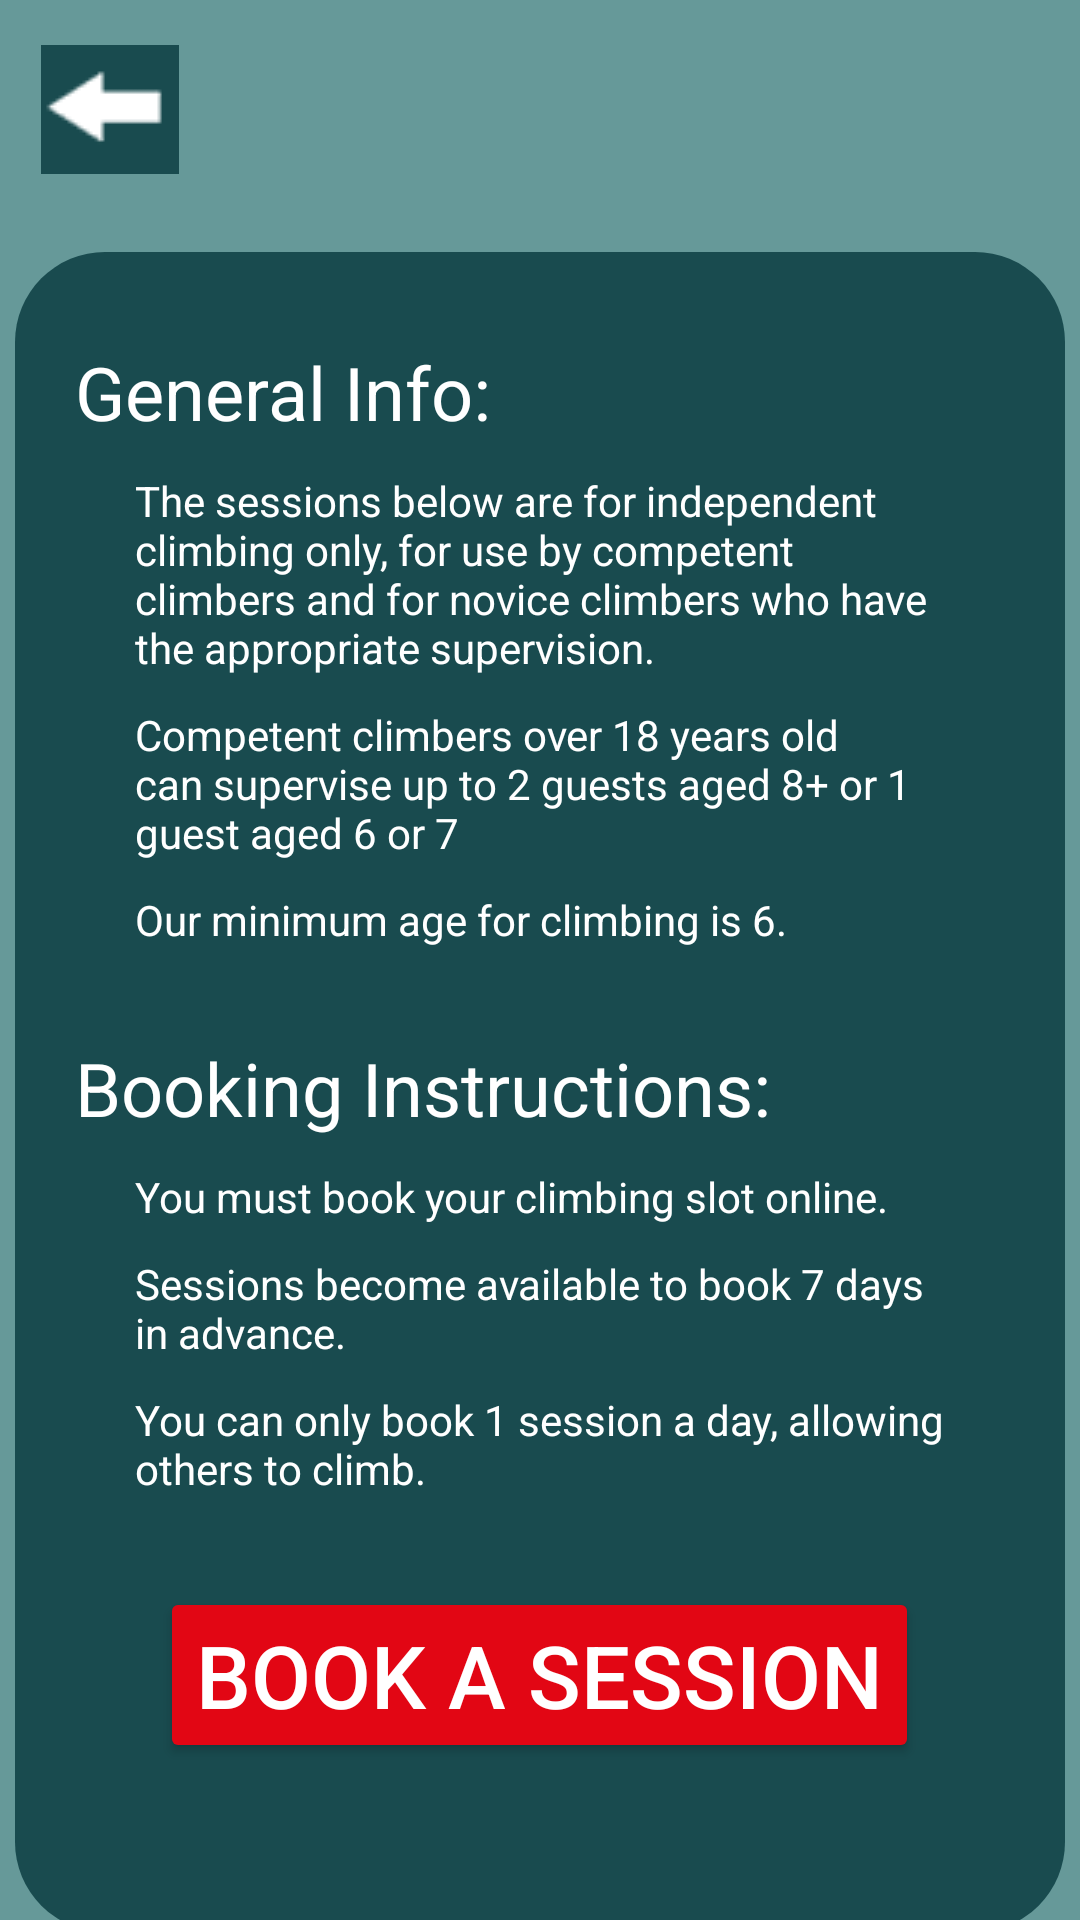

Icons on this 1080 × 1920 Android screen, each with its box as [left=x1, top=y1, right=x2, bottom=y2]:
go back: [left=41, top=45, right=179, bottom=174]
